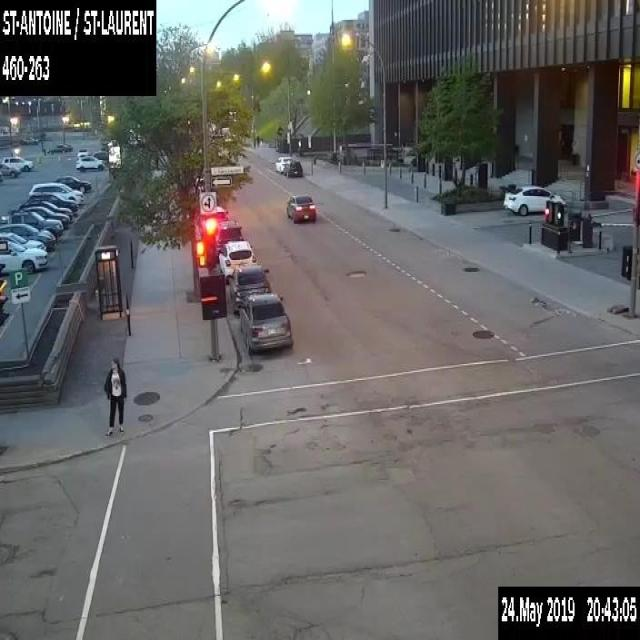construction: (274, 124, 284, 137)
pedestrian: (101, 356, 126, 435), (256, 134, 258, 147)
vehicle: (239, 292, 292, 354), (226, 263, 271, 311), (502, 184, 567, 215), (7, 210, 63, 240), (218, 239, 256, 283), (0, 239, 48, 273), (0, 222, 55, 249), (10, 205, 70, 227), (28, 181, 84, 204), (214, 219, 243, 262), (19, 200, 73, 222), (26, 193, 78, 212), (286, 194, 316, 222), (0, 231, 46, 249), (54, 174, 92, 192), (75, 155, 105, 171), (1, 155, 33, 170), (282, 158, 302, 177), (0, 162, 21, 178), (274, 155, 292, 173), (50, 142, 72, 153), (214, 205, 228, 222), (92, 149, 108, 161), (20, 135, 38, 144), (76, 147, 88, 157), (0, 170, 4, 182)
